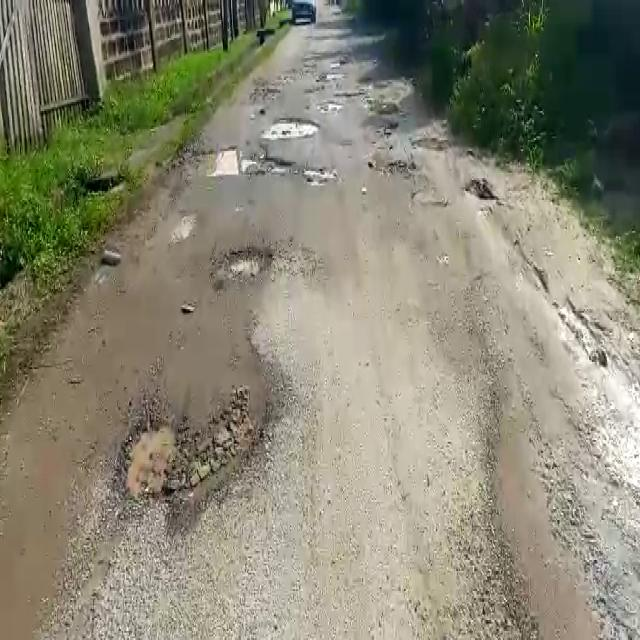Pothole: (111, 396, 269, 519), (202, 143, 296, 179), (212, 241, 278, 284), (261, 114, 320, 138), (300, 168, 334, 186)
